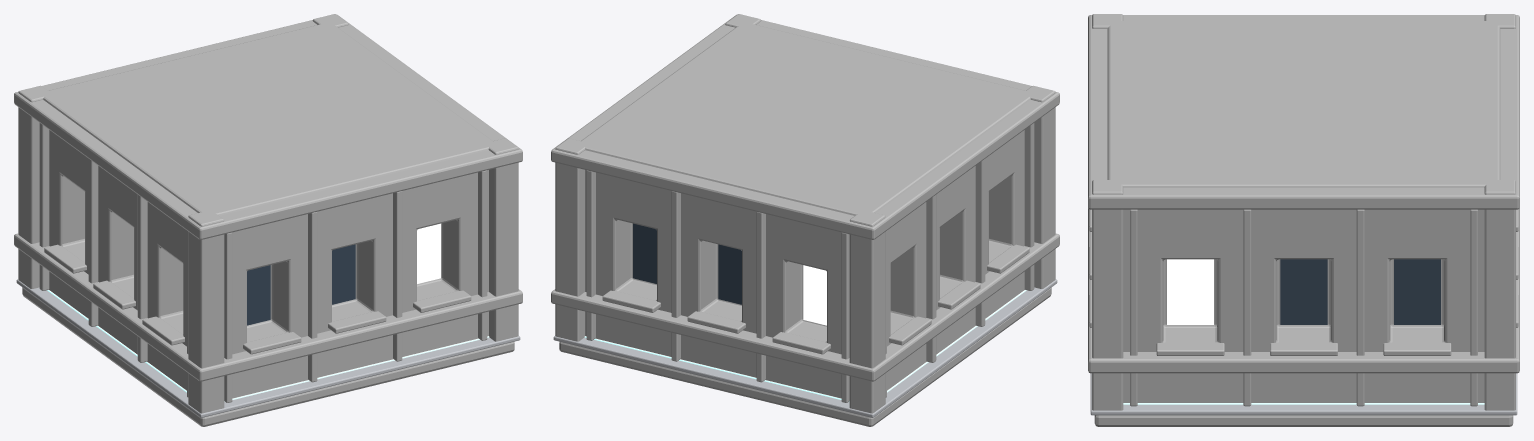
The model's file is concrete_3x3.glb.
3 views of the same model, side by side, from view 1: azimuth 30°, elevation 25°; view 2: azimuth 150°, elevation 25°; view 3: azimuth 270°, elevation 25° (orthographic). The views are drawn at different scales.
Visible parts, largest first — view 1: int_ceiling, ext_wall, int_columns, ext_frames, ext_ledge_top, ext_ledge_mid, int_slab_edge, int_slab, ext_panes_dark, ext_panes_lit, int_grid; view 2: int_ceiling, ext_wall, int_columns, ext_frames, ext_ledge_top, ext_ledge_mid, int_slab_edge, int_slab, ext_panes_dark, ext_panes_lit, int_grid; view 3: int_ceiling, ext_wall, ext_ledge_top, int_columns, ext_frames, ext_ledge_mid, ext_panes_dark, int_slab, int_slab_edge, ext_panes_lit, int_grid.
Part boxes in pixels (x1,y1,x2,y2): int_ceiling: [40, 23, 493, 215]; ext_wall: [49, 130, 488, 398]; int_columns: [18, 14, 518, 413]; ext_frames: [39, 123, 487, 402]; ext_ledge_top: [14, 14, 522, 239]; ext_ledge_mid: [14, 233, 522, 381]; int_slab_edge: [16, 279, 520, 417]; int_slab: [22, 287, 514, 426]; ext_panes_dark: [247, 244, 355, 325]; ext_panes_lit: [417, 223, 440, 283]; int_grid: [47, 290, 489, 401]; int_ceiling: [581, 22, 1033, 215]; ext_wall: [585, 130, 1024, 398]; int_columns: [555, 14, 1055, 413]; ext_frames: [586, 123, 1034, 402]; ext_ledge_top: [551, 14, 1059, 239]; ext_ledge_mid: [551, 233, 1059, 381]; int_slab_edge: [553, 279, 1057, 417]; int_slab: [559, 287, 1051, 426]; ext_panes_dark: [633, 223, 741, 304]; ext_panes_lit: [803, 265, 826, 325]; int_grid: [584, 290, 1026, 401]; int_ceiling: [1107, 21, 1500, 187]; ext_wall: [1123, 209, 1484, 402]; ext_ledge_top: [1088, 15, 1519, 209]; int_columns: [1092, 14, 1515, 410]; ext_frames: [1089, 209, 1518, 406]; ext_ledge_mid: [1088, 207, 1519, 373]; ext_panes_dark: [1280, 259, 1440, 324]; int_slab: [1094, 415, 1513, 426]; int_slab_edge: [1090, 373, 1517, 415]; ext_panes_lit: [1167, 259, 1213, 324]; int_grid: [1123, 403, 1484, 404].
Size of the model in its own units: 3.3 by 2 by 3.3.
